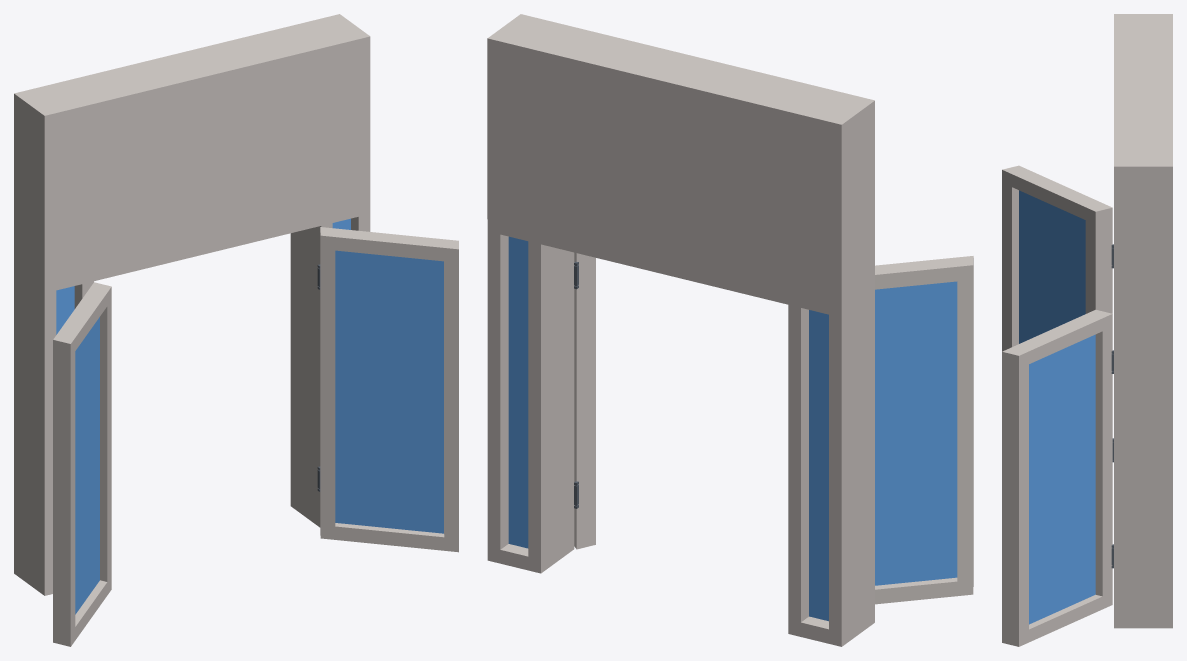
Rendered from door.fbx.
3 renders of one model, left to right at view 1: azimuth 30°, elevation 25°; view 2: azimuth 150°, elevation 25°; view 3: azimuth 270°, elevation 25°, orthographic. The views are drawn at different scales.
Visible parts, largest first — view 1: Cube, Cube.001, door; view 2: Cube, door, Cube.001; view 3: Cube.001, Cube, door, Cube.002.
Boxes of the visible parts, x1,y1,x2,y2 form: Cube: (14,14,370,281); Cube.001: (53,227,458,646); door: (14,203,370,595); Cube: (487,14,874,305); door: (487,219,874,646); Cube.001: (574,252,973,604); Cube.001: (1002,165,1112,646); Cube: (1114,14,1172,326); door: (1114,326,1172,628); Cube.002: (1111,244,1113,568).
Size of the model in its own units: 207 by 235 by 78.77.
